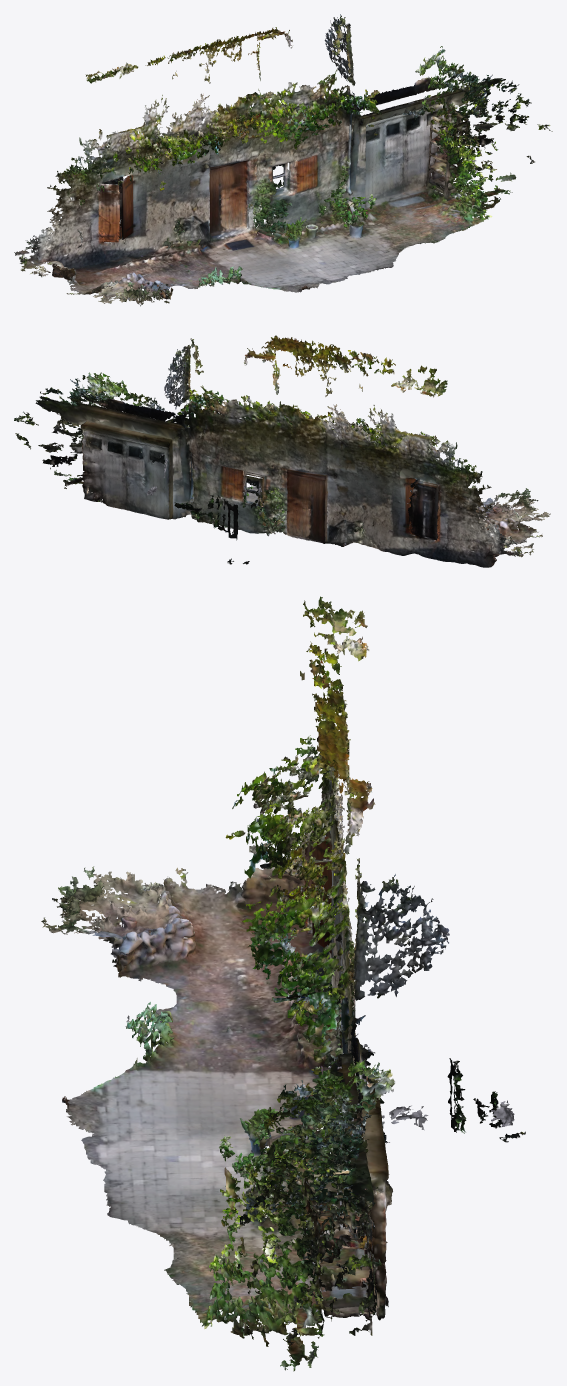
Rendered from sf-provence-house-3d-scan-zenfone-ar-cd5fe7.glb.
3 renders of one model, top to bottom at view 1: azimuth 30°, elevation 25°; view 2: azimuth 150°, elevation 25°; view 3: azimuth 270°, elevation 25°, orthographic. The views are drawn at different scales.
Visible parts, largest first — view 1: Object_2; view 2: Object_2; view 3: Object_2.
Part boxes in pixels (bbox=[...]): Object_2: bbox=[14, 14, 552, 306]; Object_2: bbox=[14, 335, 550, 567]; Object_2: bbox=[41, 596, 525, 1371].
Bounding box in the file's own units: 15.14 × 5.94 × 6.29.
Materials: 1 (1 with a texture image).
